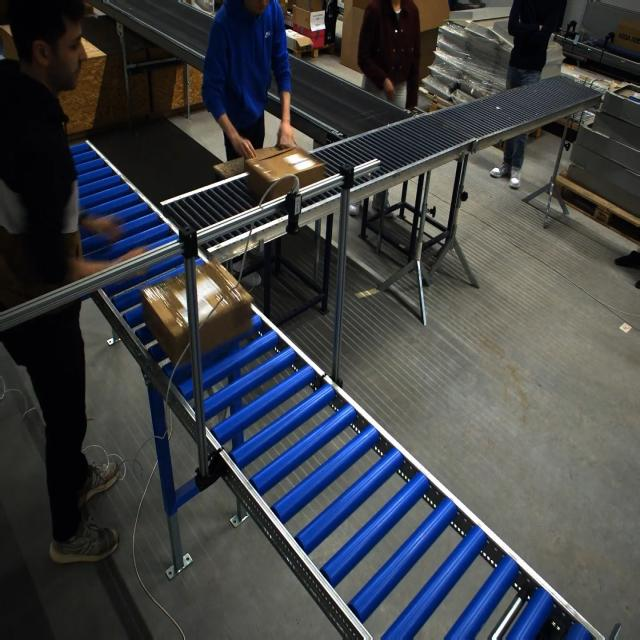box: (143, 261, 256, 365), (243, 146, 320, 201)
